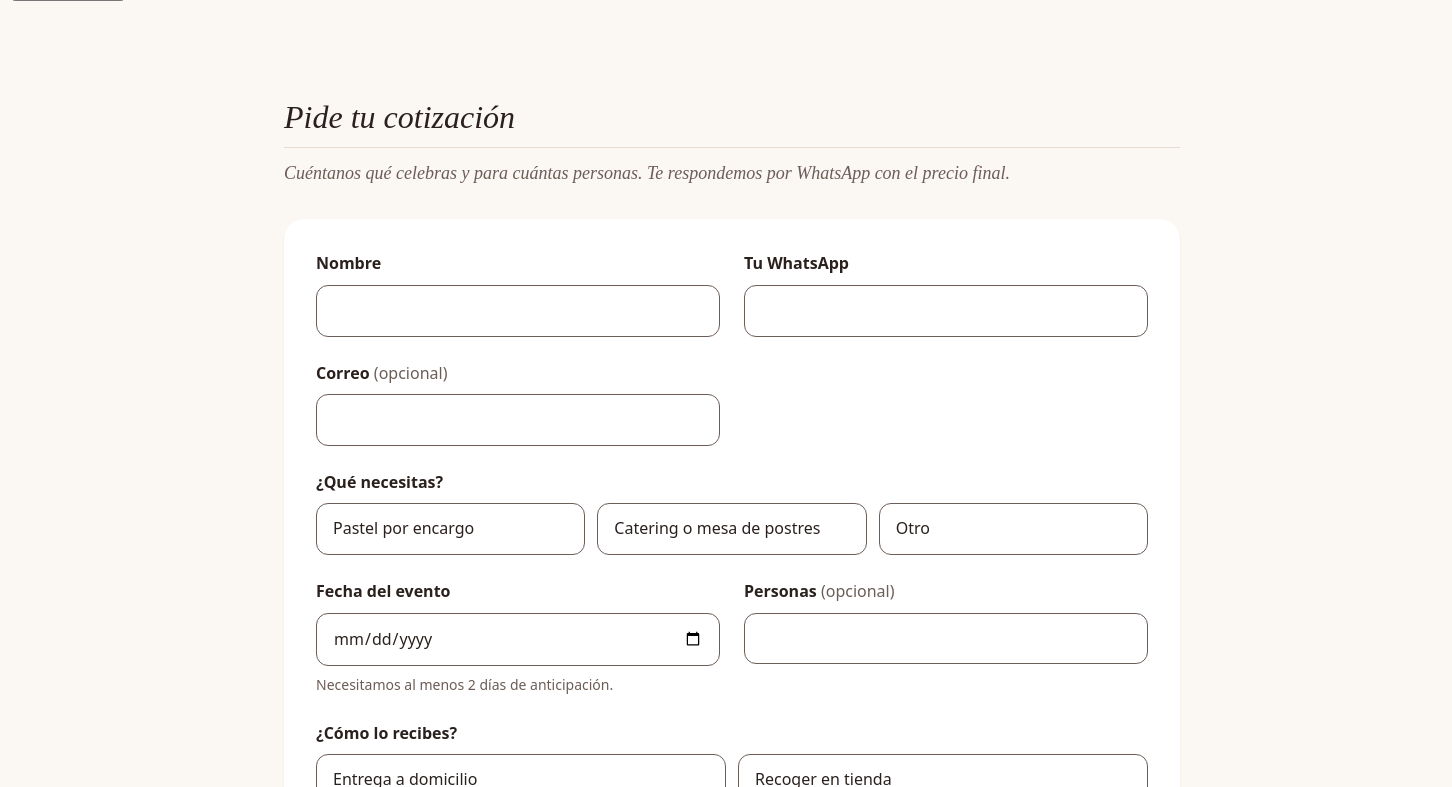
Test case: ContactForm › si el envío falla muestra el error, conserva los datos y ofrece WhatsApp
In the field labelled "Nombre": point(518, 311) x1=316 y1=285 x2=720 y2=337, type "Ana Pérez"
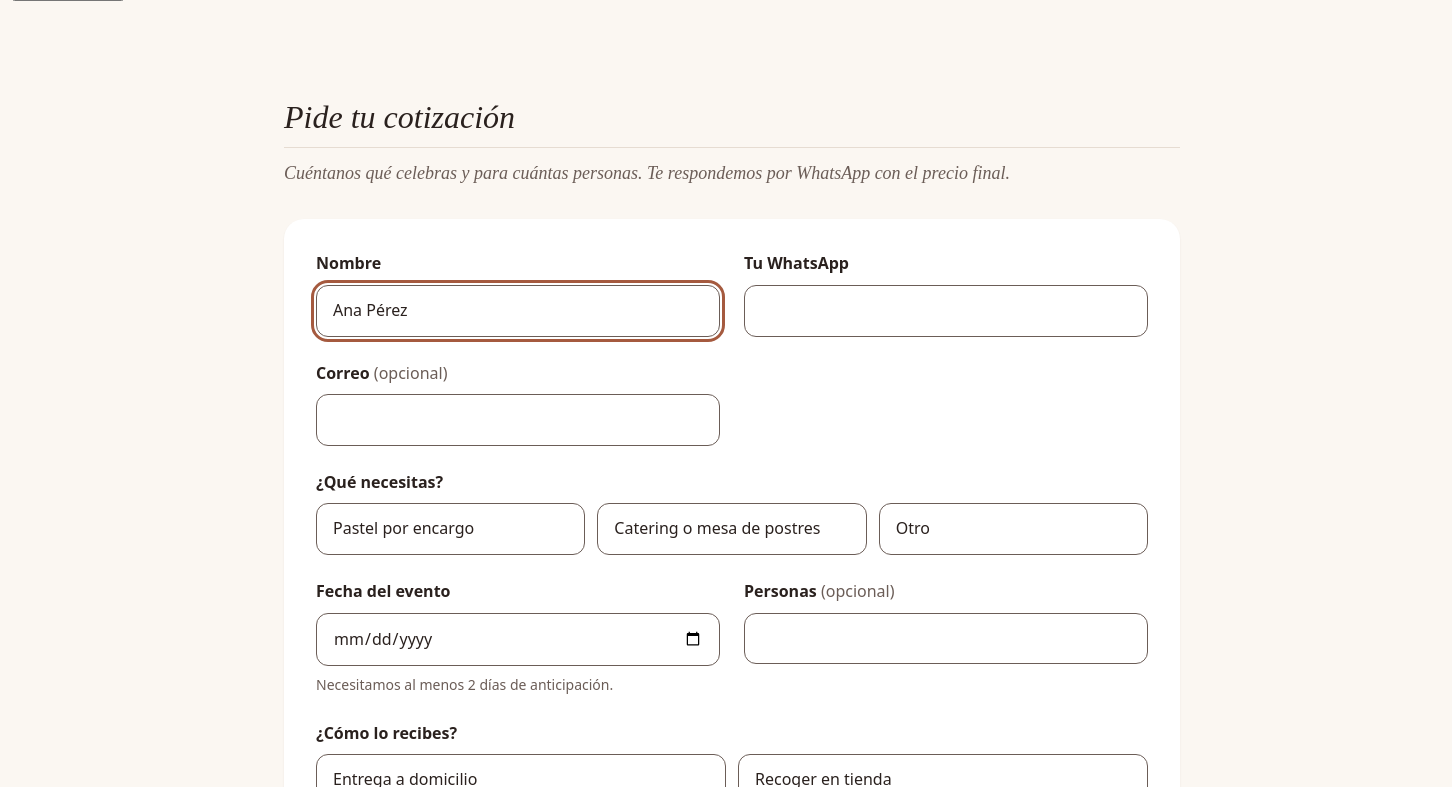
In the field labelled "Tu WhatsApp": point(946, 311) x1=744 y1=285 x2=1148 y2=337, type "55 1234 5678"
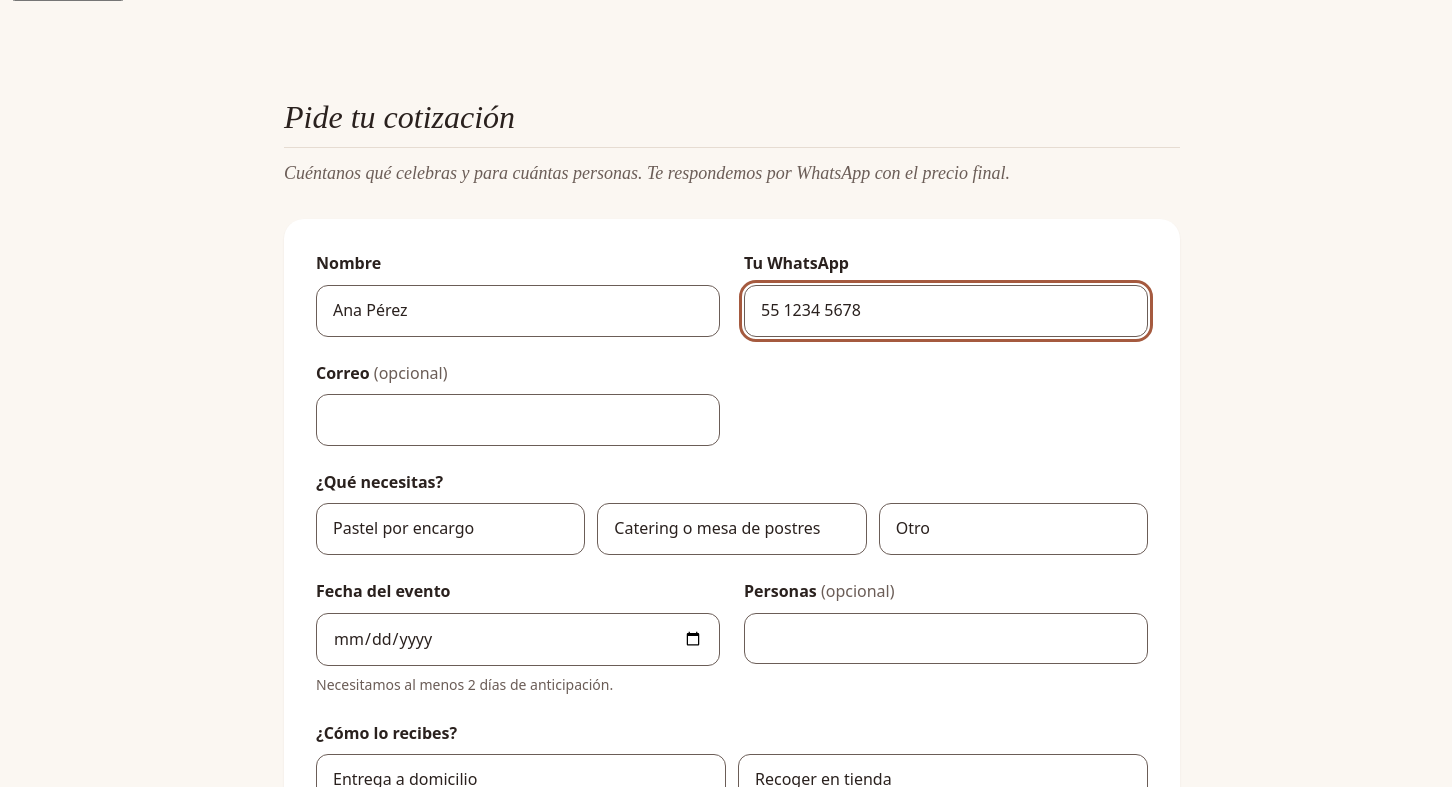
Click the radio button labelled "Pastel por encargo": point(451, 529) x1=316 y1=503 x2=585 y2=555
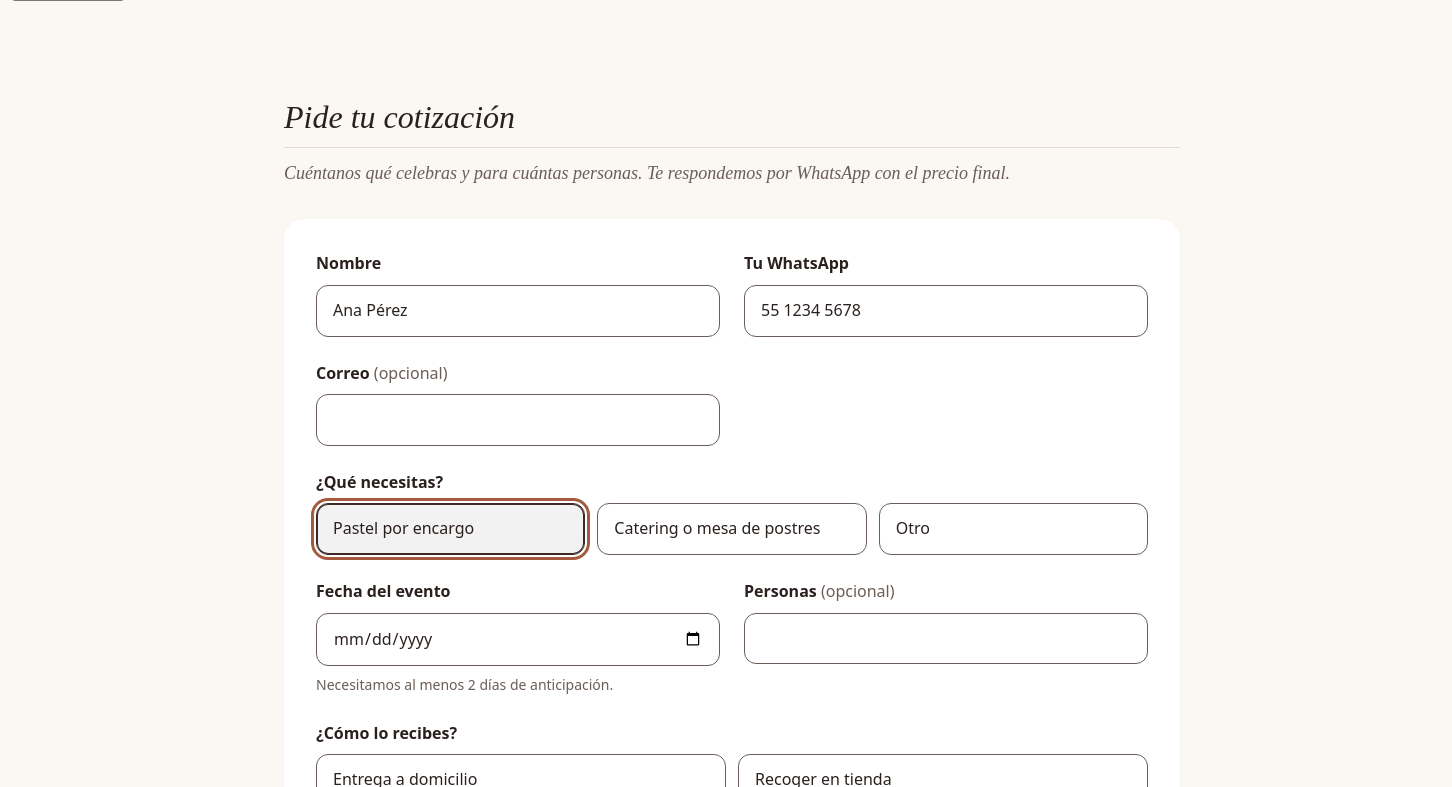
In the date field labelled "Fecha del evento": point(518, 639) x1=316 y1=612 x2=720 y2=666, type "2026-11-05"
(page scrolled)
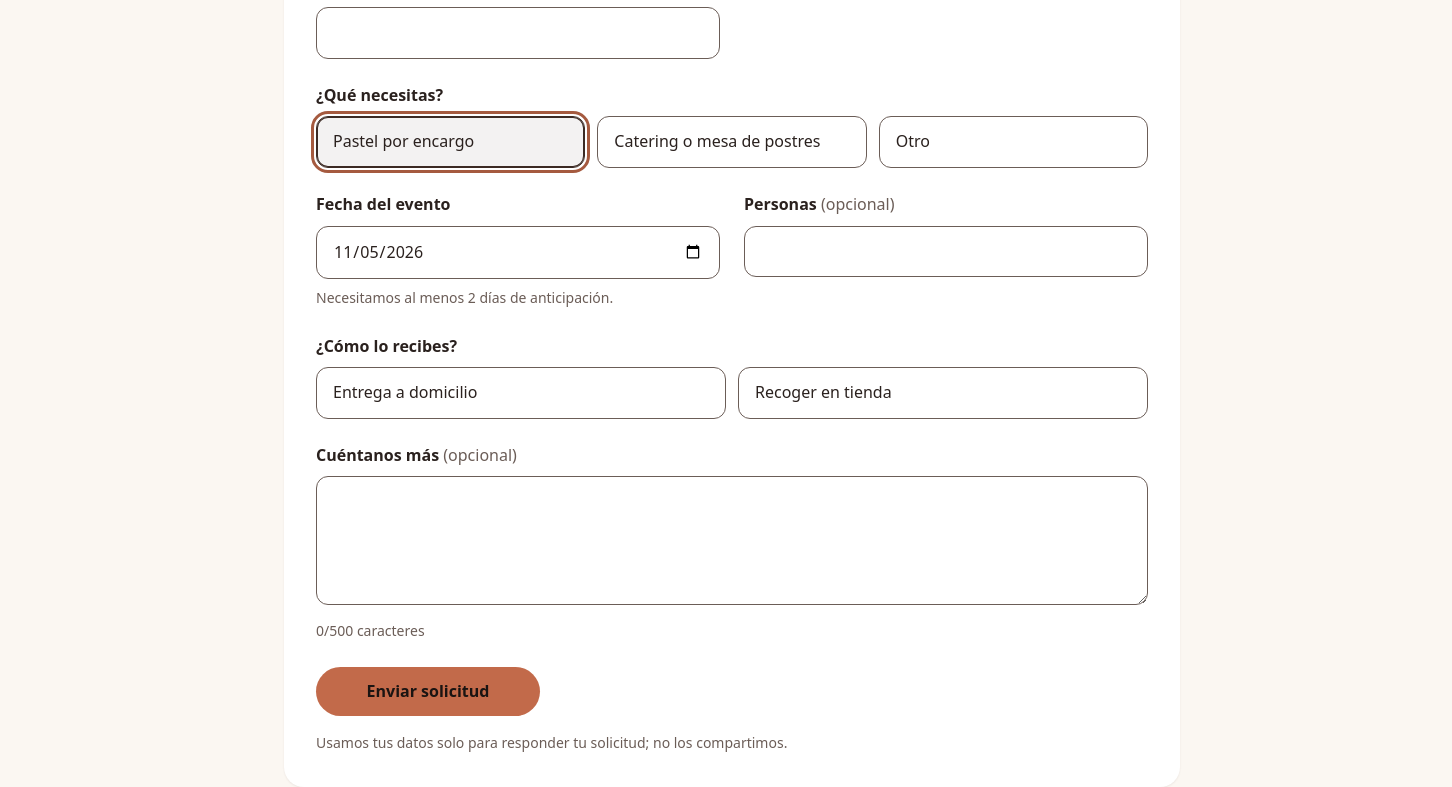
Click the radio button labelled "Recoger en tienda": point(943, 393) x1=738 y1=367 x2=1148 y2=419
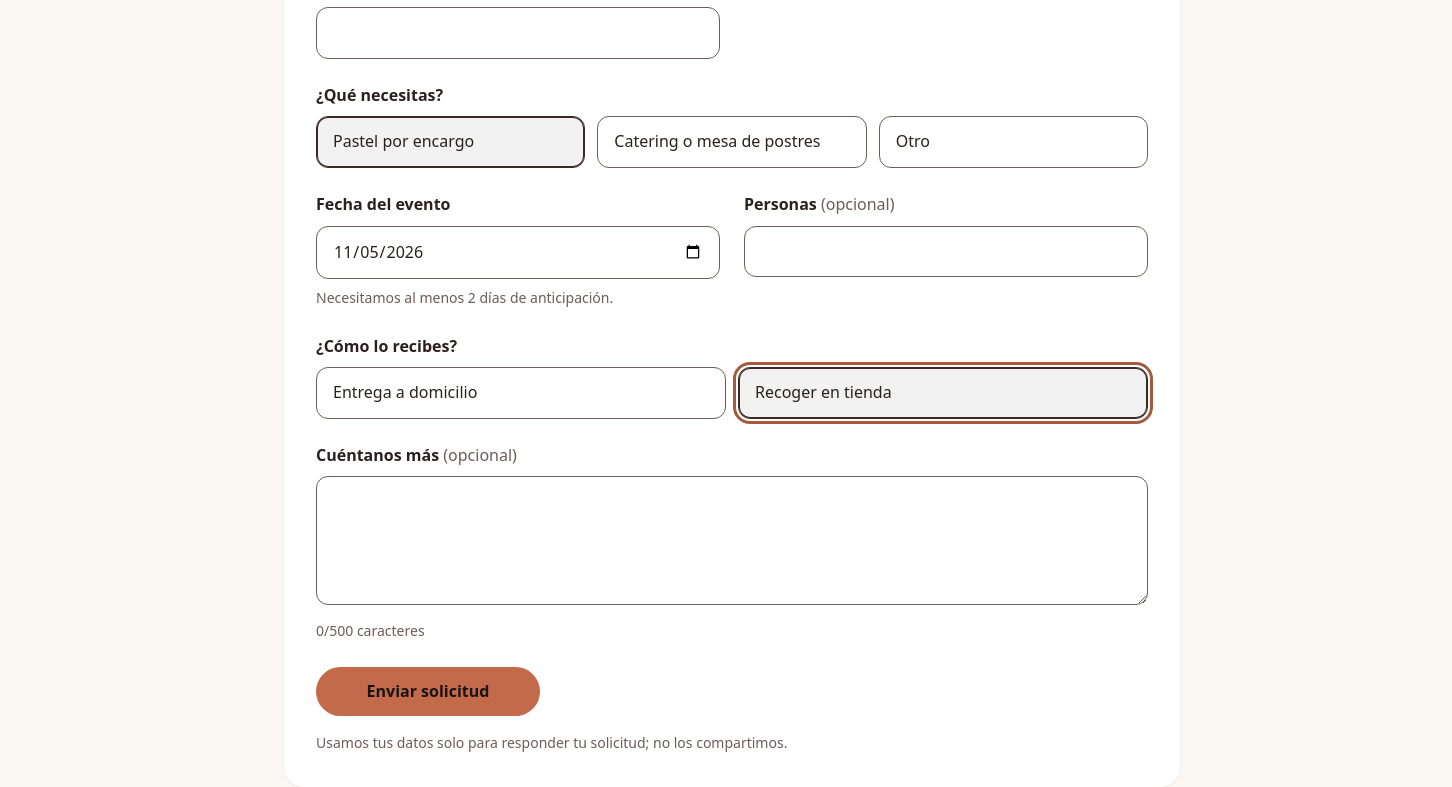
Click the button "Enviar solicitud": point(428, 692) x1=316 y1=667 x2=540 y2=716
(page scrolled)
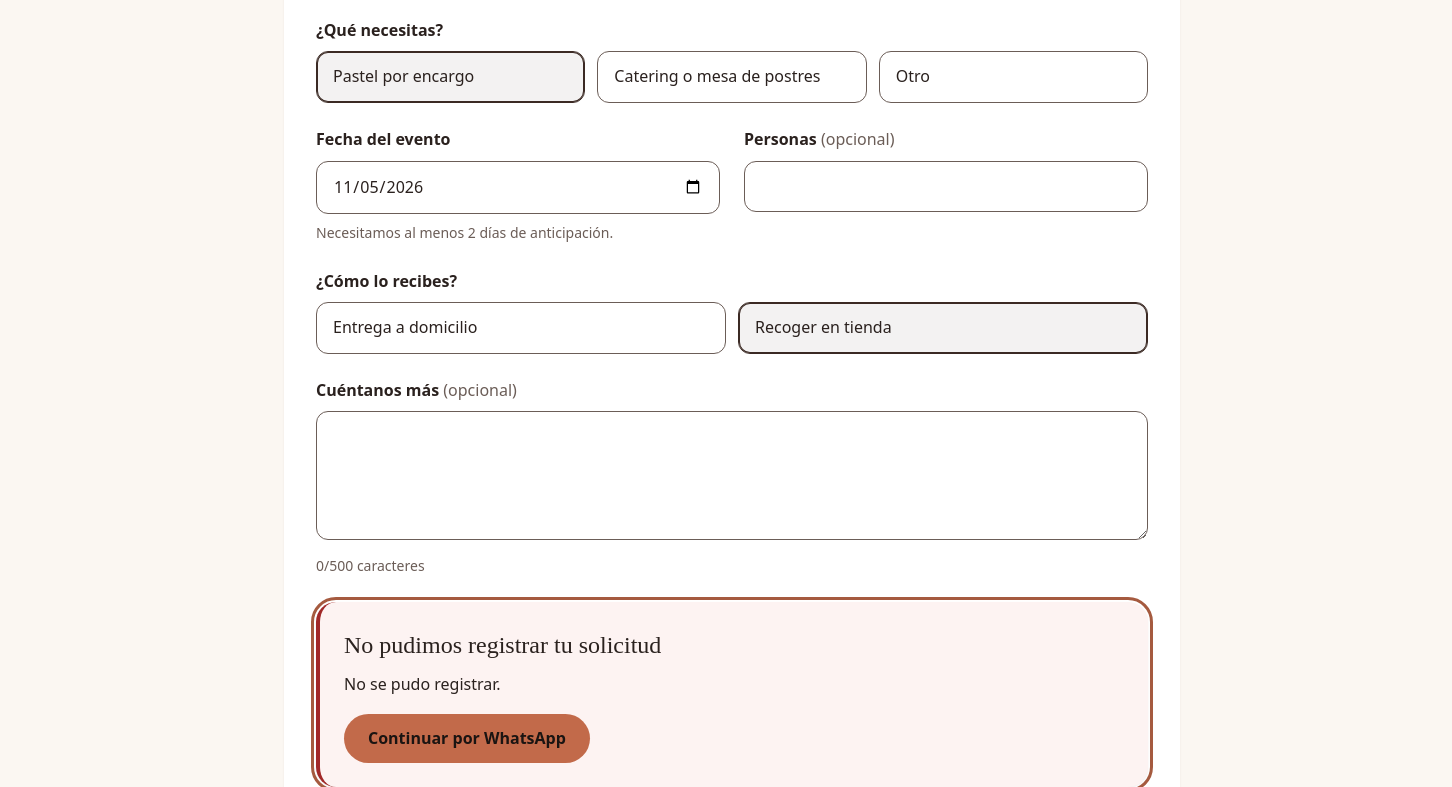
Check: the message shows "No pudimos registrar tu solicitud", box x1=344 y1=632 x2=661 y2=658
Check: the message shows "No se pudo registrar.", box x1=344 y1=673 x2=501 y2=695
Check: the link "Continuar por WhatsApp" is shown, box x1=344 y1=714 x2=590 y2=763
